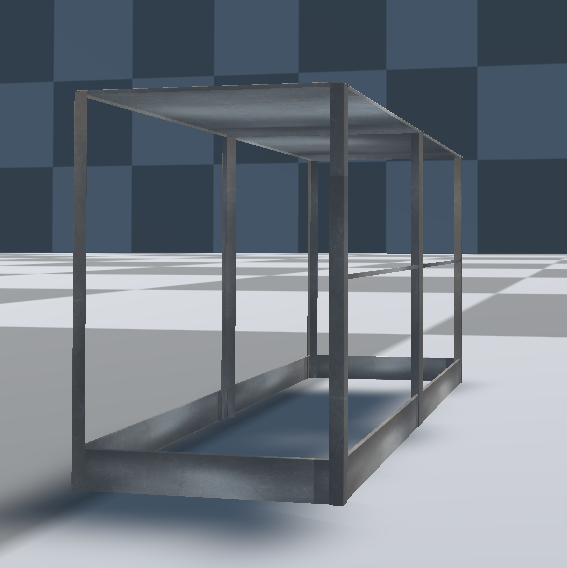Rack: (67, 80, 465, 507)
